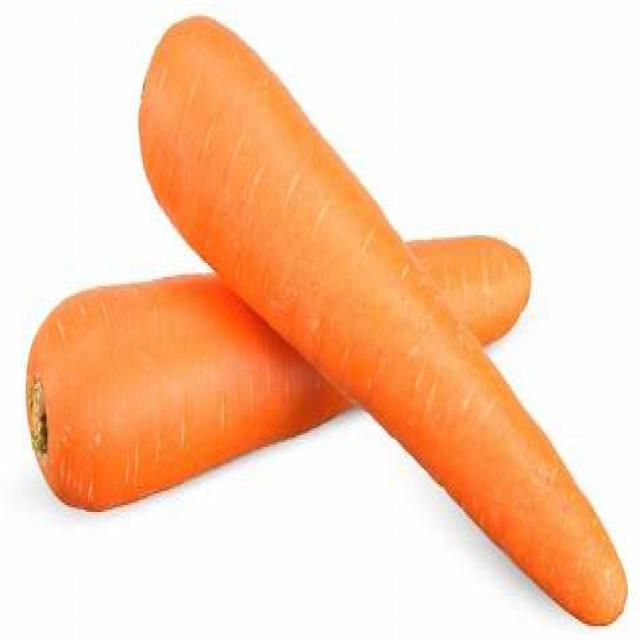Carrot: (143, 13, 628, 624), (19, 237, 534, 512)
